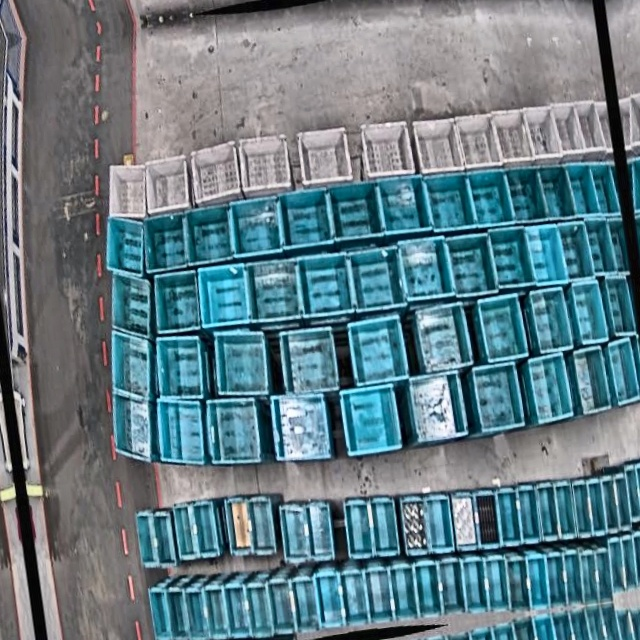Box: (337, 383, 403, 459), (343, 312, 408, 389), (209, 326, 273, 402), (269, 392, 334, 466), (275, 325, 339, 399), (203, 394, 264, 471), (148, 395, 209, 472), (148, 330, 209, 405), (102, 266, 160, 344), (243, 255, 304, 328), (100, 327, 157, 405), (106, 391, 162, 470), (297, 249, 357, 320), (193, 260, 252, 332), (413, 302, 470, 376), (407, 371, 463, 446), (147, 266, 205, 338), (345, 244, 404, 314), (187, 141, 246, 211), (236, 130, 295, 198), (470, 361, 524, 435), (273, 186, 333, 252), (296, 123, 355, 190), (325, 179, 384, 246), (398, 235, 455, 304), (228, 193, 286, 259), (360, 118, 417, 184), (377, 172, 433, 239), (477, 293, 530, 363), (181, 201, 237, 267), (138, 208, 192, 276), (98, 212, 150, 282), (527, 353, 577, 425), (139, 154, 193, 220), (446, 231, 499, 298), (412, 115, 465, 181), (421, 169, 474, 234), (101, 160, 153, 225), (526, 286, 572, 355), (465, 167, 514, 231), (488, 225, 534, 292), (454, 112, 503, 174), (491, 107, 536, 170), (524, 223, 566, 287), (570, 347, 610, 414), (503, 163, 546, 225), (568, 280, 607, 346), (536, 161, 576, 222), (523, 104, 563, 164), (605, 339, 640, 407), (556, 220, 593, 282), (600, 274, 635, 338), (279, 502, 314, 565), (368, 494, 402, 558), (423, 492, 457, 555), (243, 494, 277, 557), (565, 159, 601, 218), (341, 497, 375, 559), (221, 494, 254, 557), (399, 494, 431, 558), (303, 502, 337, 562), (551, 102, 586, 160), (573, 100, 609, 156), (584, 217, 617, 277), (189, 501, 222, 560), (448, 489, 479, 551), (338, 567, 370, 627), (362, 567, 394, 625), (389, 562, 419, 622), (414, 561, 444, 620), (267, 579, 297, 638), (313, 571, 344, 628), (290, 575, 320, 633), (222, 583, 252, 640), (243, 582, 273, 639), (493, 486, 521, 547), (437, 557, 466, 615), (473, 491, 501, 551), (590, 160, 620, 216), (460, 558, 489, 615), (504, 555, 532, 614), (524, 552, 552, 611), (535, 481, 562, 542), (515, 484, 541, 545), (152, 511, 179, 568), (484, 556, 511, 613), (552, 481, 577, 541), (202, 587, 230, 640), (570, 479, 595, 538), (545, 553, 571, 609), (560, 550, 585, 608), (135, 511, 159, 570), (576, 548, 600, 606), (165, 587, 191, 640), (184, 590, 210, 640), (586, 477, 608, 536), (598, 475, 620, 534), (593, 548, 616, 604), (148, 587, 172, 640), (612, 474, 632, 533), (605, 538, 626, 594), (619, 533, 639, 591), (624, 465, 640, 524), (630, 463, 640, 520), (631, 530, 640, 588), (635, 462, 640, 519)
